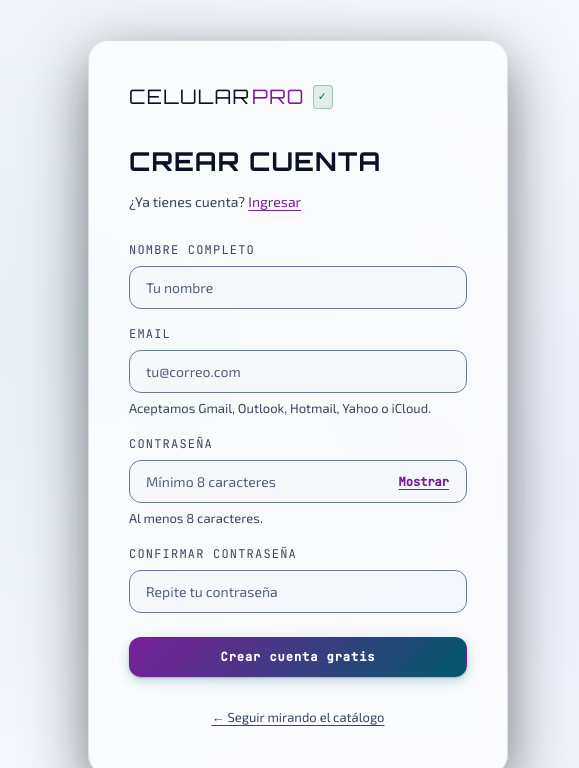
Test: Register — validación del dominio de correo › muestra "Correo electrónico inválido" con un formato incorrecto
The width and height of the screenshot is (579, 768).
Type "Mario" into the field labelled "Nombre completo". click: {"x": 298, "y": 288}
box: [129,266,467,309]
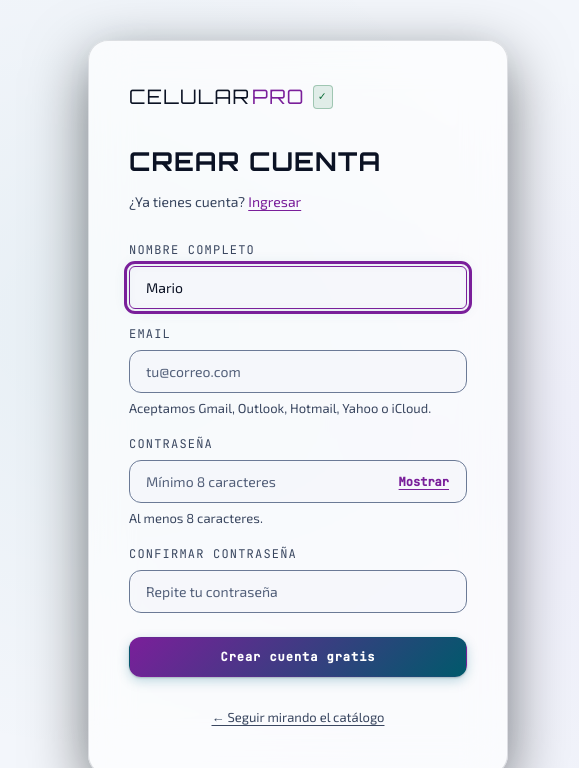
Type "usuario@" into the field labelled "Email". click: {"x": 298, "y": 372}
box: [129,350,467,393]
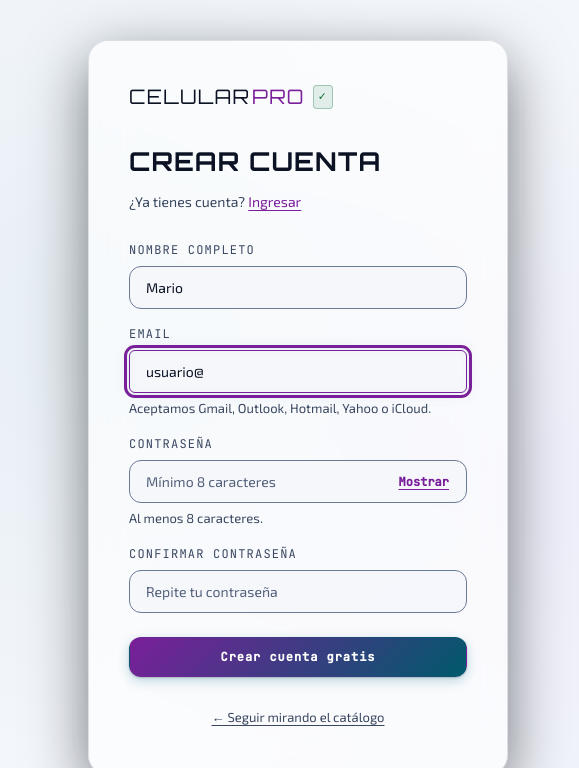
Type "password123" into the password field labelled "Contraseña". click: {"x": 298, "y": 482}
box: [129,460,467,503]
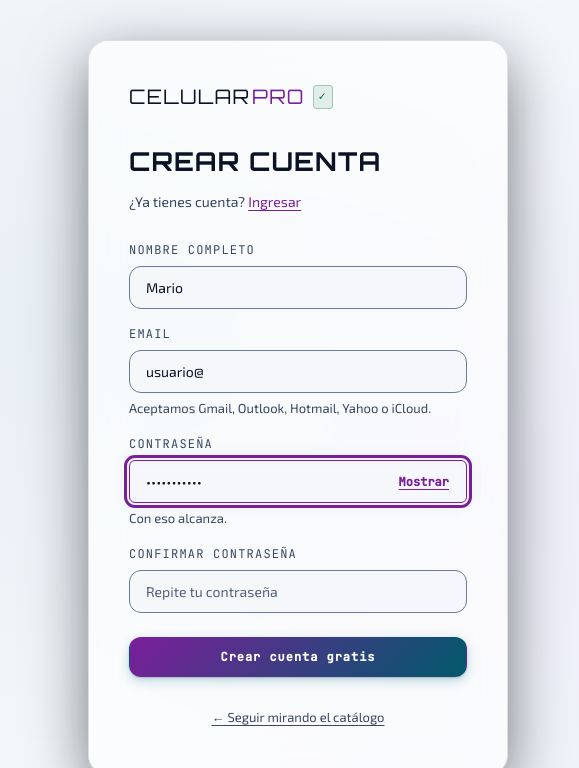
Type "password123" into the password field labelled "Confirmar contraseña". click: {"x": 298, "y": 591}
box: [129,570,467,613]
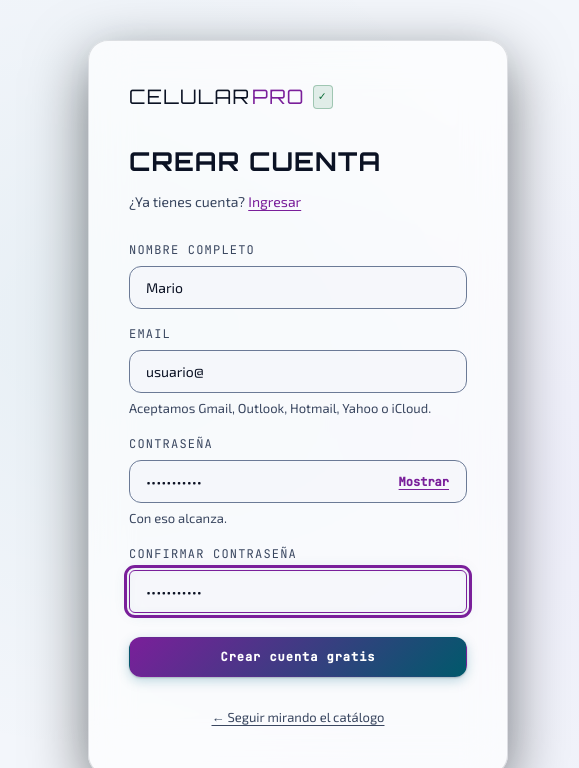
Click the button "Crear cuenta gratis". click: {"x": 298, "y": 657}
box: [129,637,467,677]
(page scrolled)
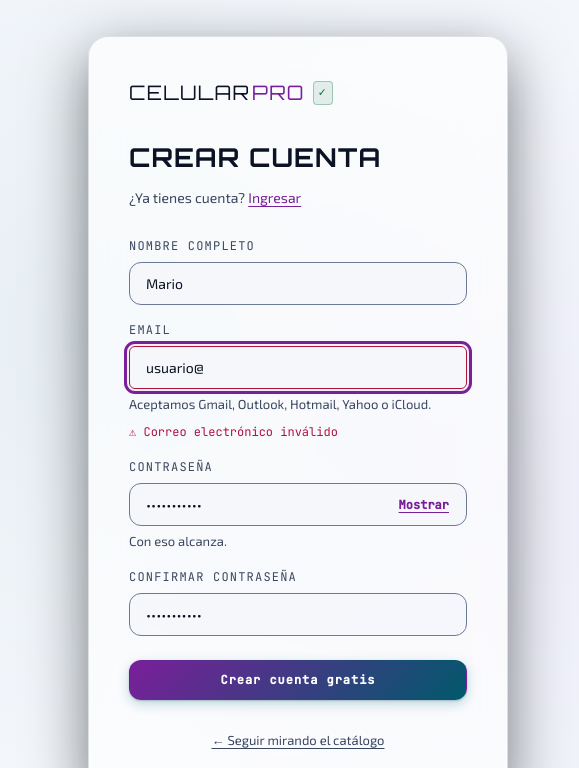
Check: the text "Correo electrónico inválido" is shown, box [143,424,338,440]
